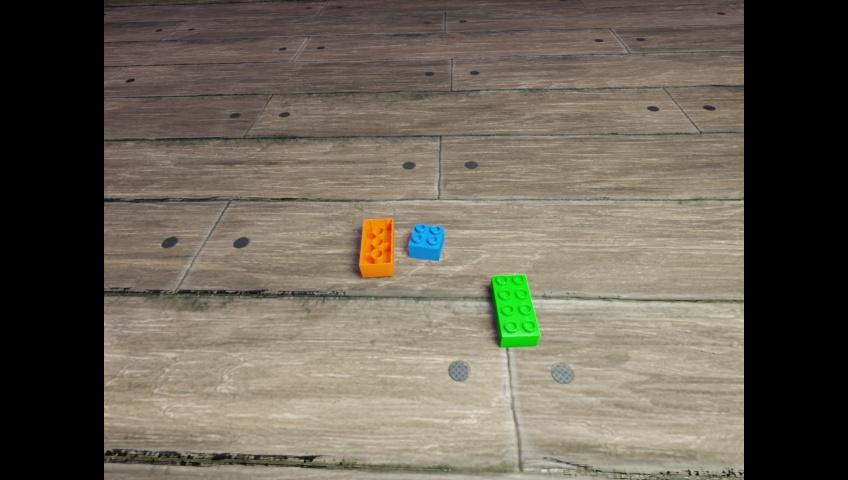2x2_blue: (408, 223, 443, 261)
4x2_green: (490, 273, 539, 347)
4x2_orange: (359, 217, 393, 277)
